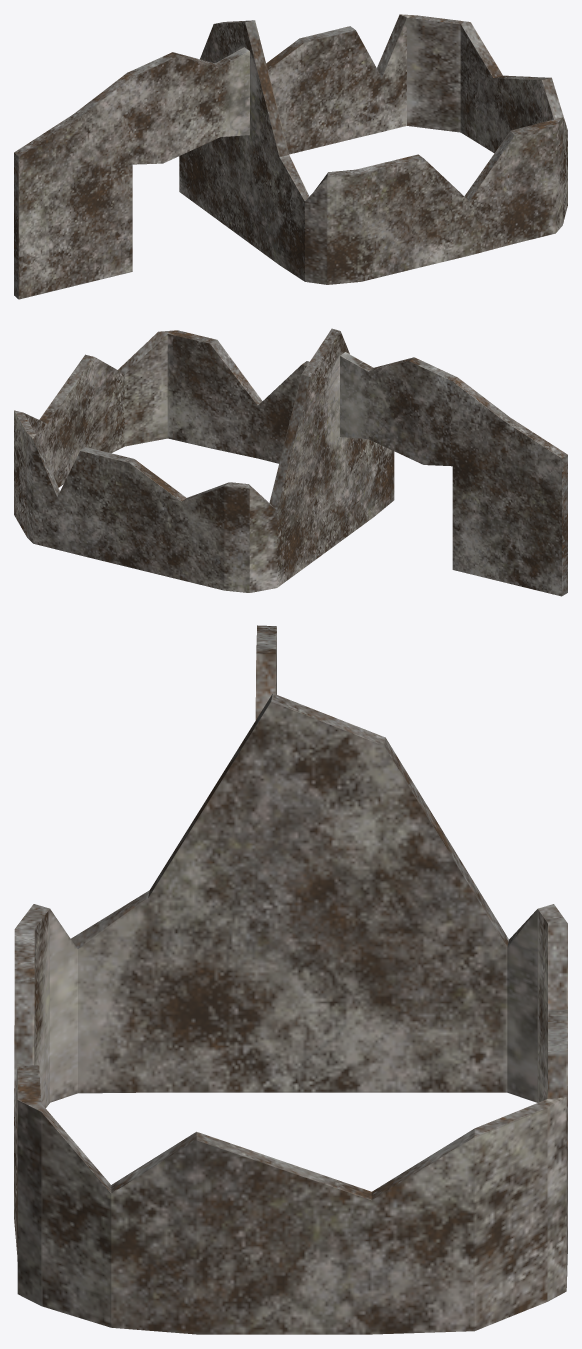
File: RuinaPuerta.obj
3 renders of one model, top to bottom at view 1: azimuth 30°, elevation 25°; view 2: azimuth 150°, elevation 25°; view 3: azimuth 270°, elevation 25°, orthographic. The views are drawn at different scales.
Visible parts, largest first — view 1: Object016; view 2: Object016; view 3: Object016.
Part boxes in pixels (x1,y1,x2,y2): Object016: (14, 14, 567, 299); Object016: (14, 328, 567, 596); Object016: (14, 625, 567, 1334).
Size of the model in its own units: 66.45 by 26.78 by 34.38.
Materials: 1 (1 with a texture image).
